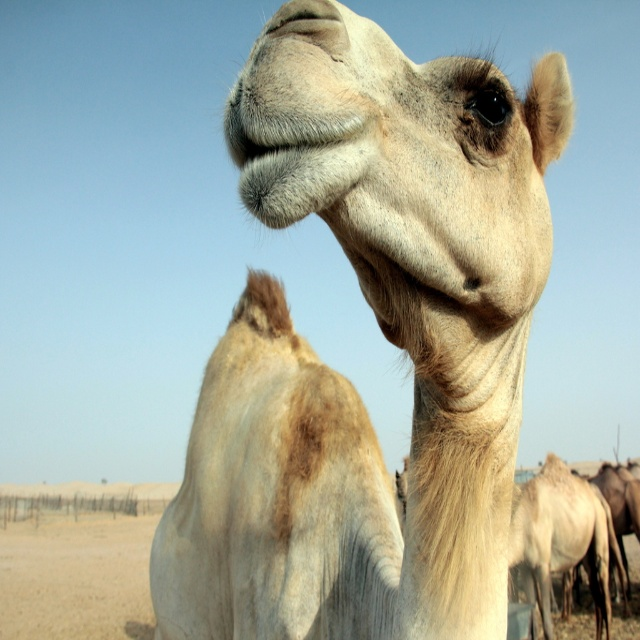Camel: (147, 0, 574, 639)
